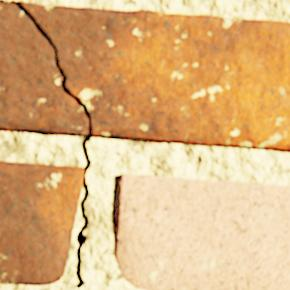brick: (115, 174, 289, 289), (0, 161, 83, 285)
broken_brick: (17, 2, 289, 151), (0, 3, 87, 136)
crack: (0, 1, 91, 288)
